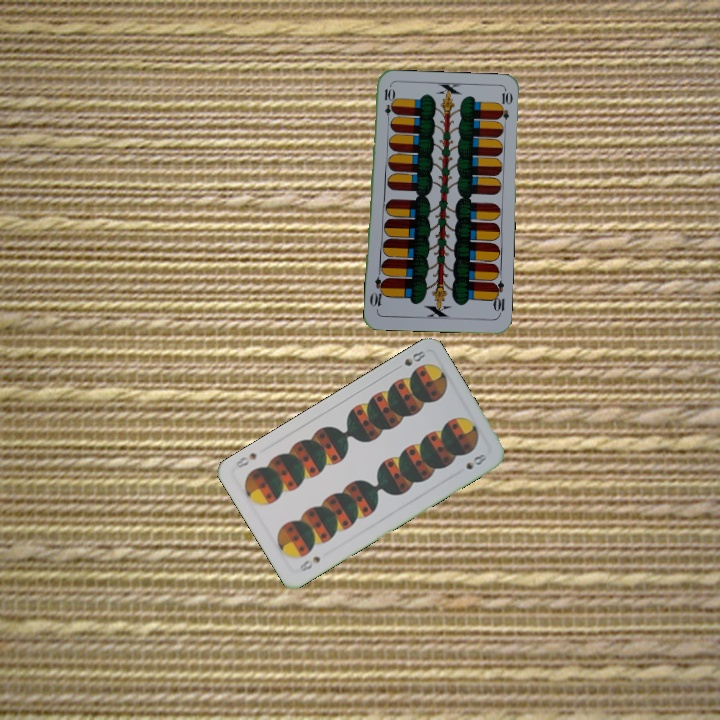E10: (488, 277, 507, 318), (380, 85, 395, 125)
S8: (391, 346, 428, 373), (296, 552, 323, 574)
